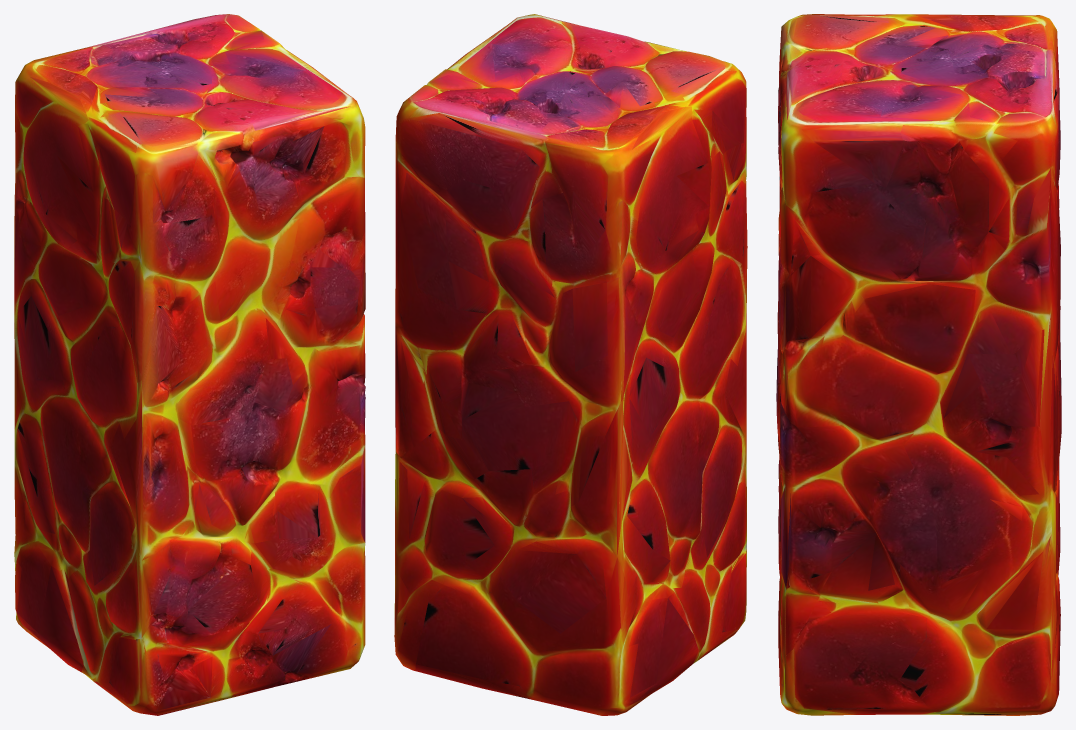
The model's file is alev_tas_uzun_kup.glb.
3 renders of one model, left to right at view 1: azimuth 30°, elevation 25°; view 2: azimuth 150°, elevation 25°; view 3: azimuth 270°, elevation 25°, orthographic. The views are drawn at different scales.
Visible parts, largest first — view 1: tripo_node_7f9552ac-a810-42a3-b753-8c2b2f7e3a0c; view 2: tripo_node_7f9552ac-a810-42a3-b753-8c2b2f7e3a0c; view 3: tripo_node_7f9552ac-a810-42a3-b753-8c2b2f7e3a0c.
Part boxes in pixels (x1,y1,x2,y2): tripo_node_7f9552ac-a810-42a3-b753-8c2b2f7e3a0c: (14, 14, 365, 715); tripo_node_7f9552ac-a810-42a3-b753-8c2b2f7e3a0c: (394, 14, 747, 715); tripo_node_7f9552ac-a810-42a3-b753-8c2b2f7e3a0c: (776, 14, 1061, 715).
Bounding box in the file's own units: 0.4289 × 0.9788 × 0.421.
Materials: 1 (1 with a texture image).
